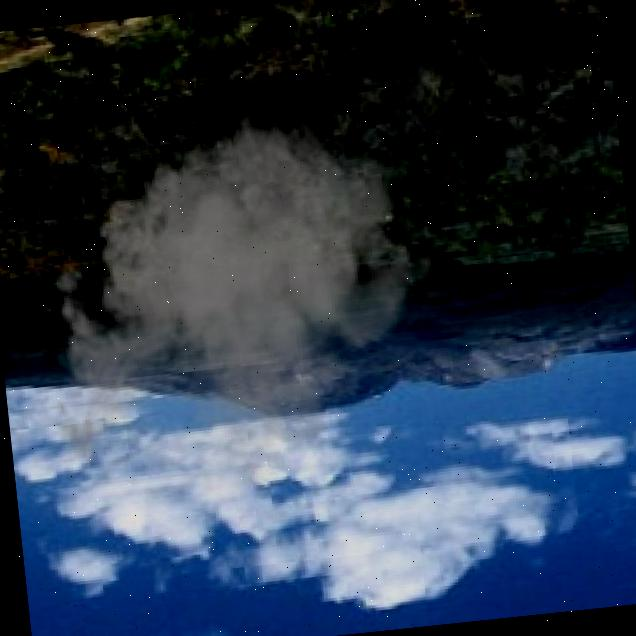smoke: (11, 80, 464, 536)
